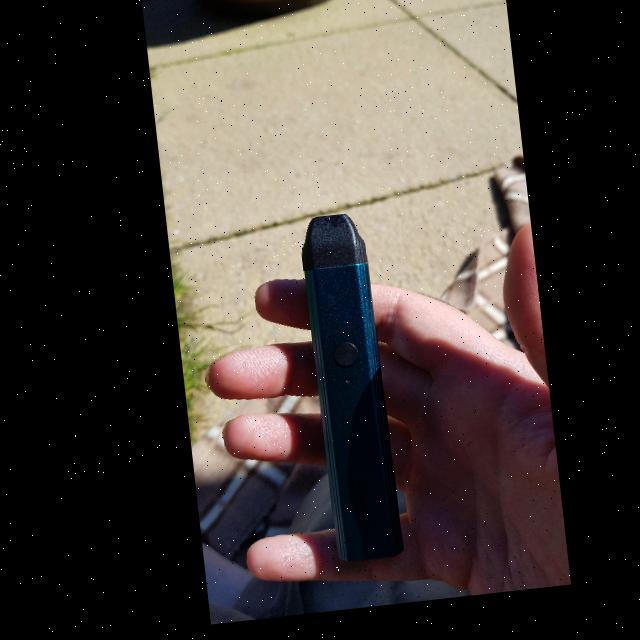vape: (290, 217, 391, 570)
